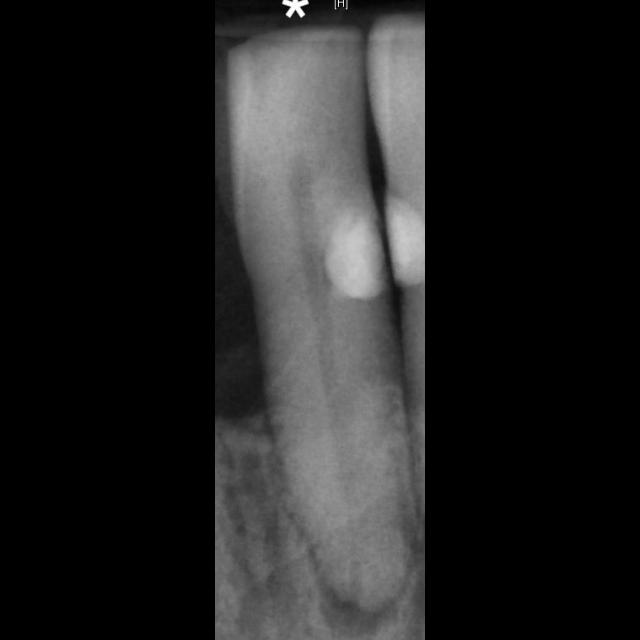tooth: (226, 25, 419, 620)
